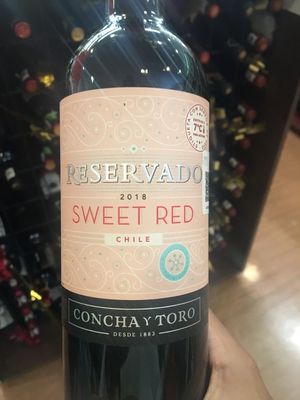reservado sweet red: (51, 16, 231, 385)
